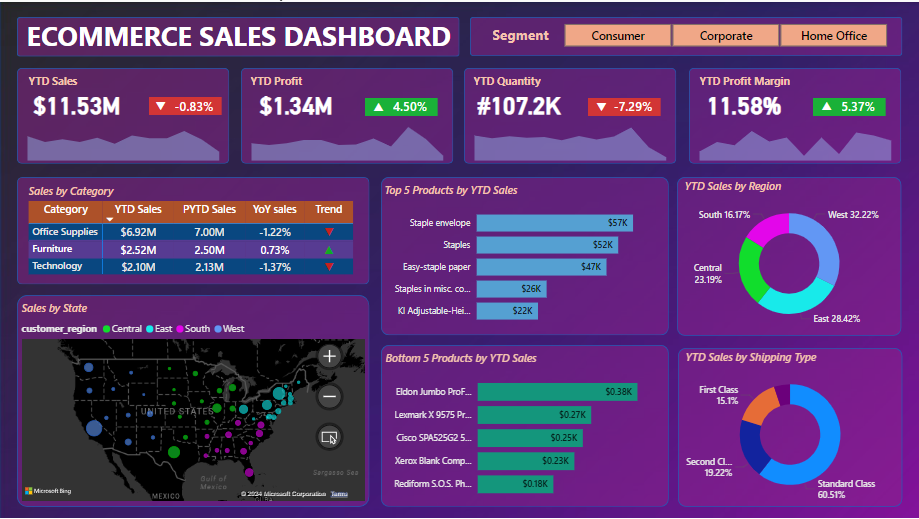

This screenshot's page, from the dashboard's own definition file:
{"tool":"powerbi","page":{"name":"Page 1","canvas":[1280,720],"ordinal":0},"visuals":[{"type":"shape","box":[23.6,20.8,615,55],"z":0},{"type":"textbox","box":[32,16.7,617.1,65.3],"z":1000},{"type":"shape","box":[23.6,91.7,295,133],"z":2000},{"type":"card","fields":{"Values":["ecommerce_data.YTD Sales"]},"box":[31.9,112.5,149.5,58.8],"z":3000},{"type":"areaChart","fields":{"Category":["Calendar.Month"],"Y":["Sum(ecommerce_data.sales_per_order)"]},"box":[23.5,157.9,295.6,67.2],"z":4000},{"type":"shape","box":[206.6,132.7,100.8,25.2],"z":5000},{"type":"card","fields":{"Values":["ecommerce_data.YoY sales"]},"box":[231.8,127.7,75.6,38.6],"z":6000},{"type":"card","fields":{"Values":["ecommerce_data.sales icon"]},"box":[204.9,122.6,38.6,47],"z":7000},{"type":"textbox","box":[34.2,94,112.5,38.4],"z":8000},{"type":"shape","box":[335.3,91.7,295,133],"z":9000},{"type":"card","fields":{"Values":["ecommerce_data.YTD Profit"]},"box":[336.4,112.6,150.1,58.4],"z":10000},{"type":"areaChart","fields":{"Category":["Calendar.Month"],"Y":["Sum(ecommerce_data.profit_per_order)"]},"box":[335.2,157.8,295.6,67.2],"z":11000},{"type":"shape","box":[507.4,132.9,100.8,25.2],"z":12000},{"type":"card","fields":{"Values":["ecommerce_data.YoY Profit"]},"box":[532.6,127.9,75.6,38.6],"z":13000},{"type":"card","fields":{"Values":["ecommerce_data.profit icon"]},"box":[507.3,123.7,37.5,47.3],"z":14000},{"type":"textbox","box":[343.6,94,90.7,38.6],"z":15000},{"type":"shape","box":[644.6,91.7,295,133],"z":16000},{"type":"card","fields":{"Values":["ecommerce_data.YTD_concatenated Qty"]},"box":[645.7,112.6,150.1,58.4],"z":17000},{"type":"areaChart","fields":{"Category":["Calendar.Month"],"Y":["Sum(ecommerce_data.order_quantity)"]},"box":[644.5,157.9,295.6,67.2],"z":18000},{"type":"shape","box":[816.7,133,100.8,25.2],"z":19000},{"type":"card","fields":{"Values":["ecommerce_data.YoY Quantity"]},"box":[841.9,127.9,75.6,38.6],"z":20000},{"type":"card","fields":{"Values":["ecommerce_data.qty icon"]},"box":[817.3,123.7,37.5,47.3],"z":21000},{"type":"textbox","box":[653.3,94.5,115.4,37.5],"z":22000},{"type":"shape","box":[958.1,91.7,295,133],"z":23000},{"type":"card","fields":{"Values":["ecommerce_data.YTD Profit Margin"]},"box":[959.1,112.6,150.1,58.4],"z":24000},{"type":"areaChart","fields":{"Category":["Calendar.Month"],"Y":["ecommerce_data.Profit Margin"]},"box":[958,157.9,295.6,67.2],"z":25000},{"type":"shape","box":[1130.2,133,100.8,25.2],"z":26000},{"type":"card","fields":{"Values":["ecommerce_data.YoY Profit Margin"]},"box":[1155.4,127.9,75.6,38.6],"z":27000},{"type":"card","fields":{"Values":["ecommerce_data.profit margin icon"]},"box":[1130.5,122.4,38.4,47],"z":28000},{"type":"textbox","box":[967.4,94.5,164,37.5],"z":29000},{"type":"shape","box":[24.2,243.5,489.8,149.5],"z":30000},{"type":"pivotTable","title":"Sales by Category","fields":{"Rows":["ecommerce_data.category_name"],"Values":["ecommerce_data.YTD Sales","ecommerce_data.PYTD Sales","ecommerce_data.YoY sales","ecommerce_data.sales icon"]},"box":[34.2,252,489.8,149.5],"z":31000},{"type":"shape","box":[24.2,407.2,489.8,294.7],"z":31001},{"type":"map","title":"Sales by State","fields":{"Y":["us_state_long_lat_codes.latitude"],"X":["us_state_long_lat_codes.longitude"],"Size":["ecommerce_data.YTD Sales"],"Series":["ecommerce_data.customer_region"]},"box":[25.6,414.3,488.4,284.8],"z":31002},{"type":"shape","box":[529.7,243.5,400,220],"z":31003},{"type":"shape","box":[529.7,477,400.1,225],"z":31004},{"type":"barChart","title":"Top 5 Products by YTD Sales","fields":{"Category":["ecommerce_data.product_name"],"Y":["ecommerce_data.YTD Sales"]},"box":[529.7,250.6,400.1,209.3],"z":31005},{"type":"barChart","title":"Bottom 5 Products by YTD Sales","fields":{"Category":["ecommerce_data.product_name"],"Y":["ecommerce_data.YTD Sales"]},"box":[531.1,484.1,400.1,217.8],"z":31006},{"type":"shape","box":[941.1,243.5,311.8,220.7],"z":31007},{"type":"shape","box":[942.6,481.2,311.8,220.7],"z":31008},{"type":"donutChart","title":"YTD Sales by Region","fields":{"Category":["ecommerce_data.customer_region"],"Y":["ecommerce_data.YTD Sales"]},"box":[946.8,244.9,300.4,217.8],"z":31009},{"type":"donutChart","title":"YTD Sales by Shipping Type","fields":{"Y":["ecommerce_data.YTD Sales"],"Category":["ecommerce_data.shipping_type"]},"box":[948.3,482.7,300.4,217.8],"z":31010},{"type":"shape","box":[653.5,21.4,600.8,54.1],"z":31011},{"type":"slicer","fields":{"Values":["ecommerce_data.customer_segment"]},"box":[758.9,24.2,498.3,44.1],"z":31012},{"type":"textbox","box":[679.2,28.5,112.5,39.9],"z":31013}]}

Visuals, with their boxes in screenshot pixels (x1, y1, x2, y2), scaled from the page's 1280x720 canvas onto the 919x519 screenshot:
shape: rect(17, 15, 458, 55)
textbox: rect(23, 12, 466, 59)
shape: rect(17, 66, 229, 162)
card - ecommerce_data.YTD Sales: rect(23, 81, 130, 123)
areaChart - Calendar.Month x Sum(ecommerce_data.sales_per_order): rect(17, 114, 229, 162)
shape: rect(148, 96, 221, 114)
card - ecommerce_data.YoY sales: rect(166, 92, 221, 120)
card - ecommerce_data.sales icon: rect(147, 88, 175, 122)
textbox: rect(25, 68, 105, 95)
shape: rect(241, 66, 453, 162)
card - ecommerce_data.YTD Profit: rect(242, 81, 349, 123)
areaChart - Calendar.Month x Sum(ecommerce_data.profit_per_order): rect(241, 114, 453, 162)
shape: rect(364, 96, 437, 114)
card - ecommerce_data.YoY Profit: rect(382, 92, 437, 120)
card - ecommerce_data.profit icon: rect(364, 89, 391, 123)
textbox: rect(247, 68, 312, 96)
shape: rect(463, 66, 675, 162)
card - ecommerce_data.YTD_concatenated Qty: rect(464, 81, 571, 123)
areaChart - Calendar.Month x Sum(ecommerce_data.order_quantity): rect(463, 114, 675, 162)
shape: rect(586, 96, 659, 114)
card - ecommerce_data.YoY Quantity: rect(604, 92, 659, 120)
card - ecommerce_data.qty icon: rect(587, 89, 614, 123)
textbox: rect(469, 68, 552, 95)
shape: rect(688, 66, 900, 162)
card - ecommerce_data.YTD Profit Margin: rect(689, 81, 796, 123)
areaChart - Calendar.Month x ecommerce_data.Profit Margin: rect(688, 114, 900, 162)
shape: rect(811, 96, 884, 114)
card - ecommerce_data.YoY Profit Margin: rect(830, 92, 884, 120)
card - ecommerce_data.profit margin icon: rect(812, 88, 839, 122)
textbox: rect(695, 68, 812, 95)
shape: rect(17, 176, 369, 283)
"Sales by Category" pivotTable: rect(25, 182, 376, 289)
shape: rect(17, 294, 369, 506)
"Sales by State" map: rect(18, 299, 369, 504)
shape: rect(380, 176, 667, 334)
shape: rect(380, 344, 668, 506)
"Top 5 Products by YTD Sales" barChart: rect(380, 181, 668, 332)
"Bottom 5 Products by YTD Sales" barChart: rect(381, 349, 669, 506)
shape: rect(676, 176, 900, 335)
shape: rect(677, 347, 901, 506)
"YTD Sales by Region" donutChart: rect(680, 177, 895, 334)
"YTD Sales by Shipping Type" donutChart: rect(681, 348, 897, 505)
shape: rect(469, 15, 901, 54)
slicer - ecommerce_data.customer_segment: rect(545, 17, 903, 49)
textbox: rect(488, 21, 568, 49)
